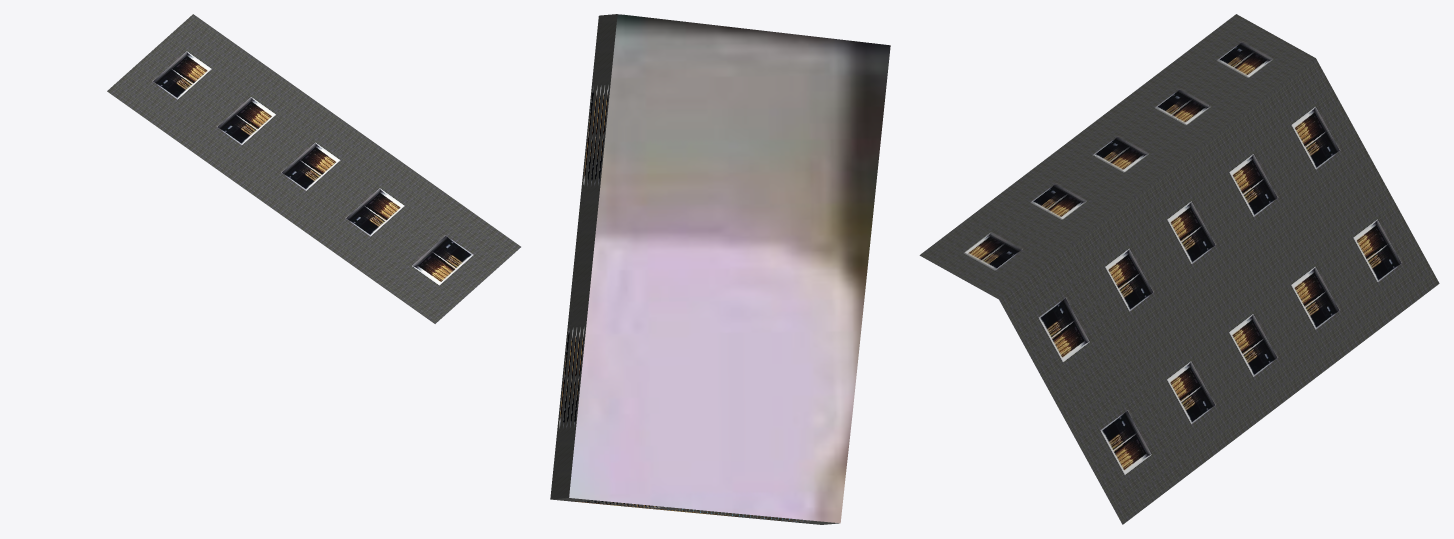
3 views of the same model, side by side, from view 1: azimuth 30°, elevation 25°; view 2: azimuth 150°, elevation 25°; view 3: azimuth 270°, elevation 25° (orthographic). The views are drawn at different scales.
Bounding box in the file's own units: 14 × 16.94 × 19.29.
4 materials, 4 textured.
